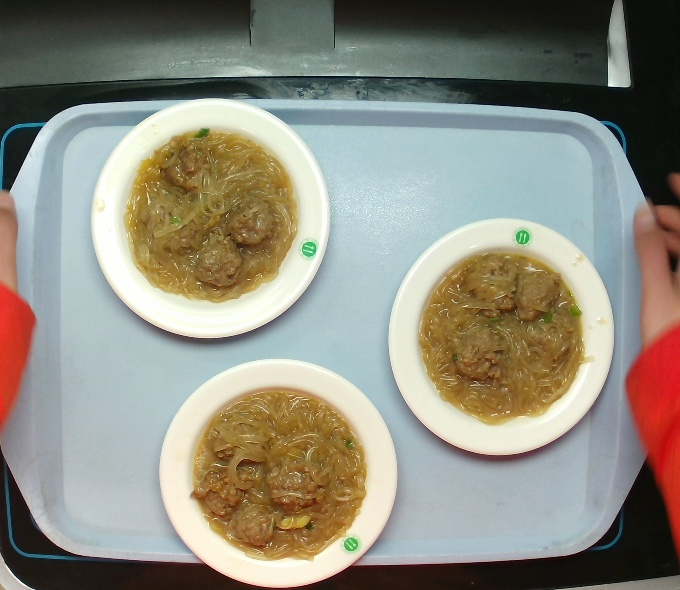wcq-FenSiNiuRouWan: (182, 370, 374, 565), (415, 246, 594, 428), (124, 126, 302, 303)
